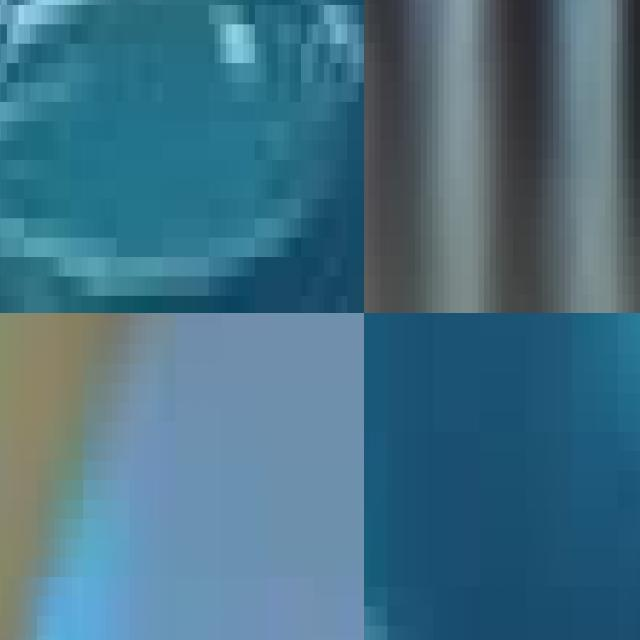fish: (0, 0, 364, 313), (364, 0, 640, 313)
